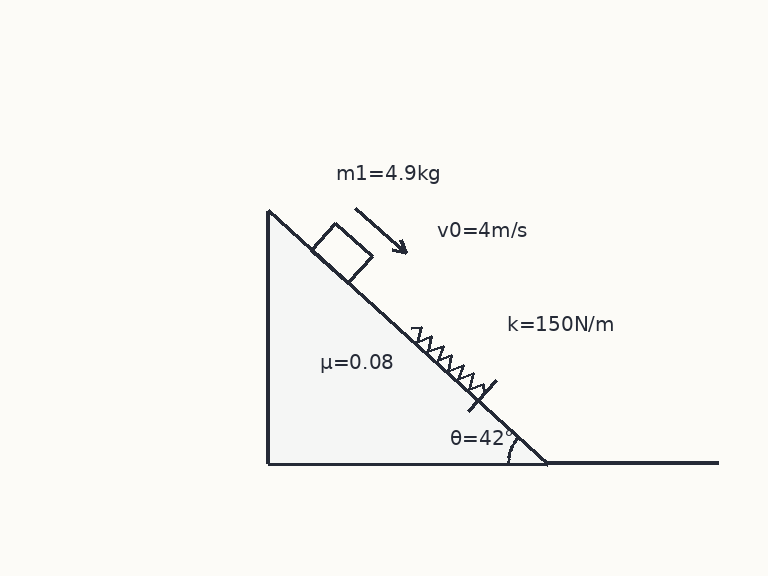block: (309, 221, 373, 284)
ramp: (266, 209, 550, 465)
spring: (409, 325, 486, 395)
